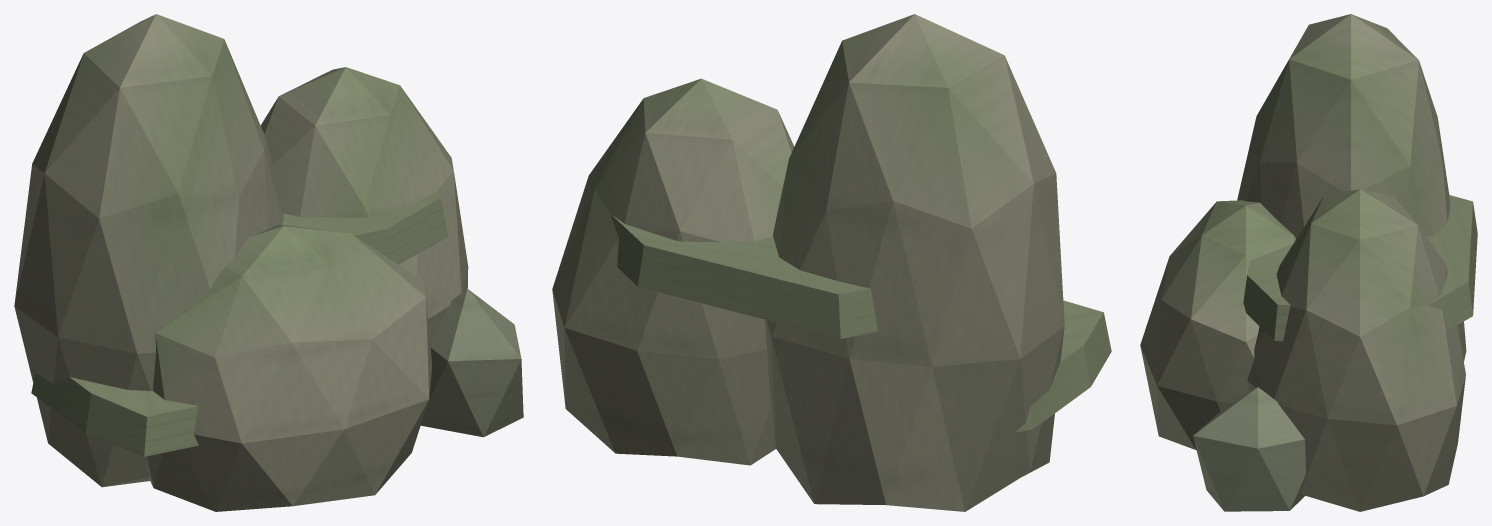
The model's file is cliff-karst-lod0.glb.
The picture shows the model from 3 angles, left to right: view 1: azimuth 30°, elevation 25°; view 2: azimuth 150°, elevation 25°; view 3: azimuth 270°, elevation 25°; orthographic projection. The views are drawn at different scales.
Bounding box in the file's own units: 0.479 × 0.455 × 0.3674.
1 material, 1 textured.
